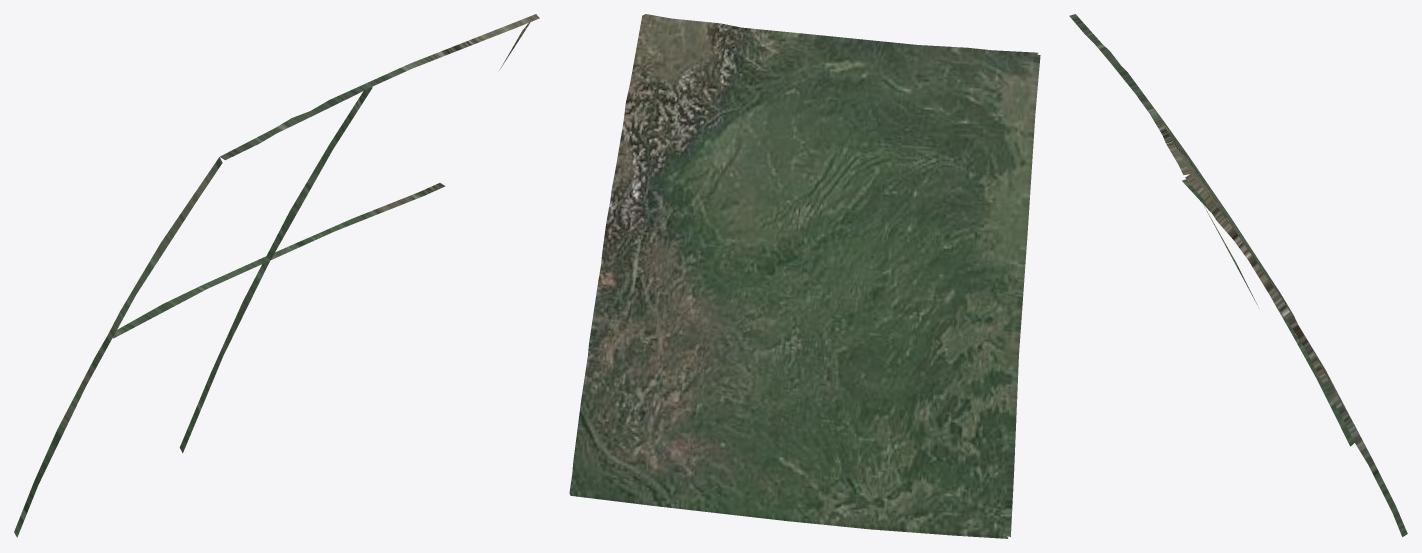
3 renders of one model, left to right at view 1: azimuth 30°, elevation 25°; view 2: azimuth 150°, elevation 25°; view 3: azimuth 270°, elevation 25°, orthographic. The views are drawn at different scales.
Bounding box in the file's own units: 1231976 × 1119375 × 895877.
1 material, 1 textured.
